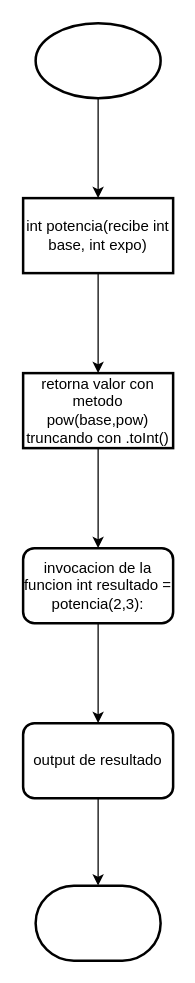
Some shapes in this 195 by 983 pixel diagram are drawn without their labels. The centre of each missing label's shape, as x and y in pixels:
"fin" belongs at (x=97, y=922).
"Inicio Funcion" belongs at (x=97, y=60).
